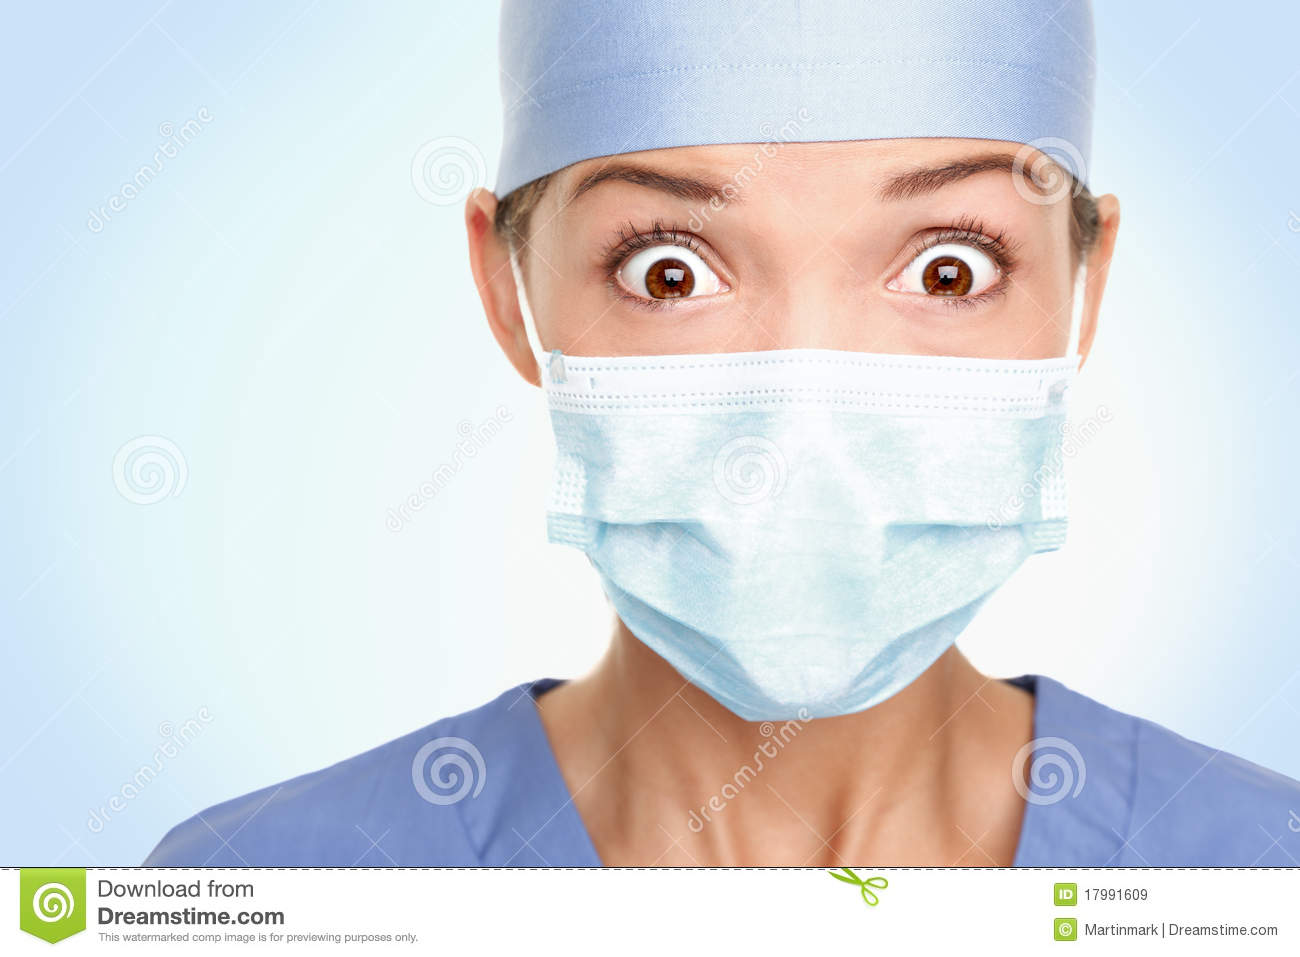mask: (510, 338, 1098, 736)
